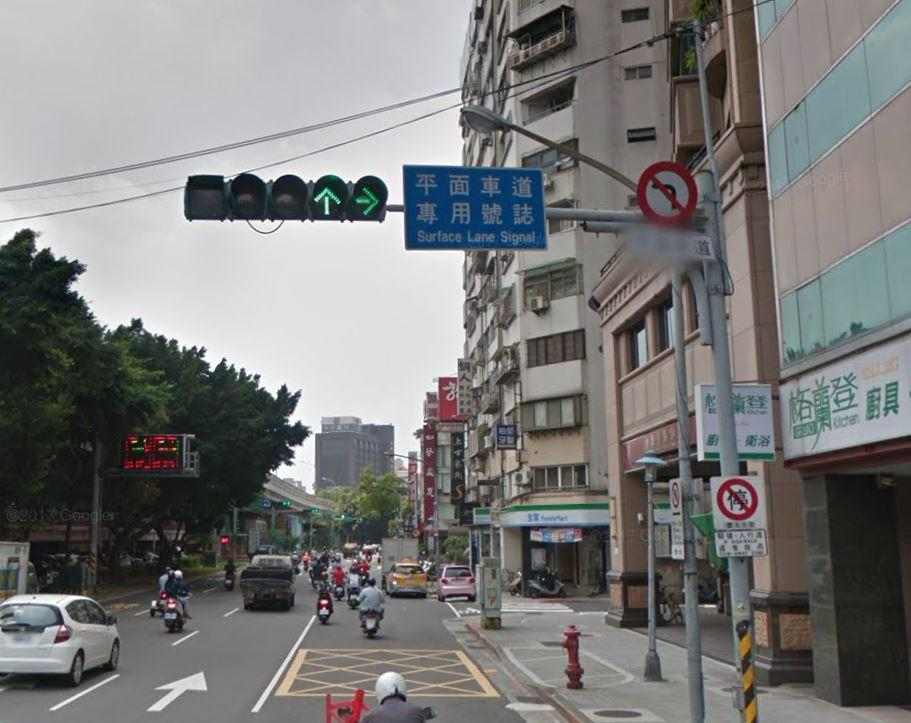no_left_turn: (636, 159, 696, 225)
